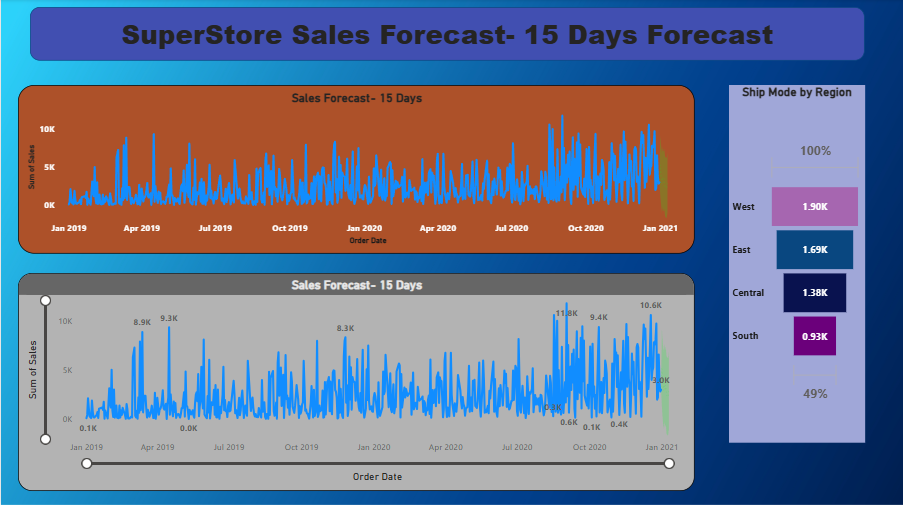

This screenshot's page, from the dashboard's own definition file:
{"tool":"powerbi","page":{"name":"Page 2","canvas":[1280,720],"ordinal":1},"visuals":[{"type":"lineChart","title":"Sales Forecast- 15 Days","fields":{"Y":["Sum(SuperStore_Sales_Dataset.Sales)"],"Category":["SuperStore_Sales_Dataset.Order Date"]},"box":[24.3,388.6,958.6,308.6],"z":0},{"type":"lineChart","title":"Sales Forecast- 15 Days","fields":{"Y":["Sum(SuperStore_Sales_Dataset.Sales)"],"Category":["SuperStore_Sales_Dataset.Order Date"]},"box":[24.3,121.4,958.6,238.6],"z":1000},{"type":"textbox","box":[41.4,11.4,1182.9,75.7],"z":2000},{"type":"funnel","title":"Ship Mode by Region","fields":{"Category":["SuperStore_Sales_Dataset.Region"],"Y":["CountNonNull(SuperStore_Sales_Dataset.Ship Mode)"]},"box":[1031.4,121.4,192.9,507.1],"z":3000}]}

Visuals, with their boxes in screenshot pixels (x1, y1, x2, y2), scaled from the page's 1280x720 canvas onto the 903x505 screenshot:
"Sales Forecast- 15 Days" lineChart: (x1=17, y1=273, x2=693, y2=489)
"Sales Forecast- 15 Days" lineChart: (x1=17, y1=85, x2=693, y2=252)
textbox: (x1=29, y1=8, x2=864, y2=61)
"Ship Mode by Region" funnel: (x1=728, y1=85, x2=864, y2=441)
